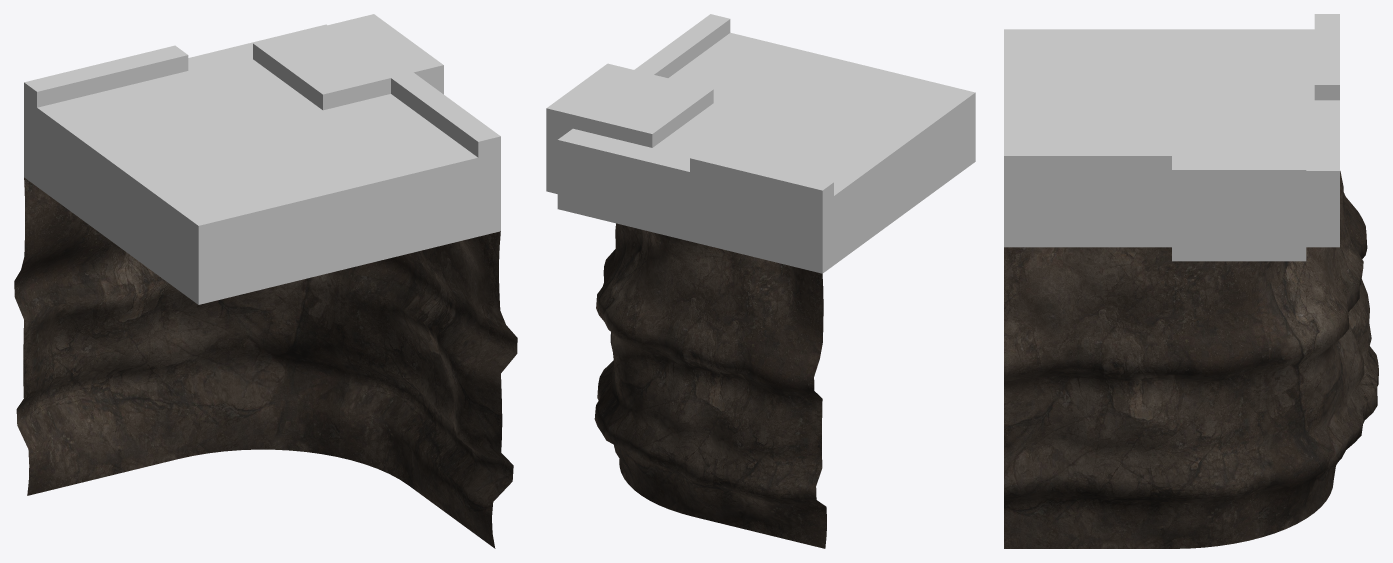
Rendered from cliff_edge_corner_outer.glb.
The picture shows the model from 3 angles, left to right: view 1: azimuth 30°, elevation 25°; view 2: azimuth 150°, elevation 25°; view 3: azimuth 270°, elevation 25°; orthographic projection. The views are drawn at different scales.
Parts seen in each view (by area): view 1: cliff_edge_corner_outer, col_walk_cliff_edge_corner_outer, col_block_rim_cliff_edge_corner_outer_1, col_block_rim_cliff_edge_corner_outer_0, col_block_rim_cliff_edge_corner_outer_2; view 2: cliff_edge_corner_outer, col_walk_cliff_edge_corner_outer, col_block_rim_cliff_edge_corner_outer_0, col_block_rim_cliff_edge_corner_outer_1, col_block_rim_cliff_edge_corner_outer_2; view 3: cliff_edge_corner_outer, col_walk_cliff_edge_corner_outer, col_block_rim_cliff_edge_corner_outer_1, col_block_rim_cliff_edge_corner_outer_2, col_block_rim_cliff_edge_corner_outer_0.
Boxes of the visible parts, left/top/right/bottom form: cliff_edge_corner_outer: left=14, top=177, right=517, bottom=548; col_walk_cliff_edge_corner_outer: left=24, top=24, right=500, bottom=304; col_block_rim_cliff_edge_corner_outer_1: left=253, top=14, right=443, bottom=110; col_block_rim_cliff_edge_corner_outer_0: left=24, top=45, right=188, bottom=186; col_block_rim_cliff_edge_corner_outer_2: left=391, top=72, right=500, bottom=236; cliff_edge_corner_outer: left=594, top=223, right=826, bottom=548; col_walk_cliff_edge_corner_outer: left=557, top=32, right=975, bottom=273; col_block_rim_cliff_edge_corner_outer_0: left=690, top=150, right=833, bottom=273; col_block_rim_cliff_edge_corner_outer_1: left=546, top=63, right=713, bottom=193; col_block_rim_cliff_edge_corner_outer_2: left=634, top=14, right=730, bottom=77; cliff_edge_corner_outer: left=1004, top=171, right=1378, bottom=548; col_walk_cliff_edge_corner_outer: left=1004, top=29, right=1339, bottom=247; col_block_rim_cliff_edge_corner_outer_1: left=1172, top=113, right=1306, bottom=261; col_block_rim_cliff_edge_corner_outer_2: left=1004, top=145, right=1171, bottom=247; col_block_rim_cliff_edge_corner_outer_0: left=1314, top=14, right=1339, bottom=100.
Size of the model in its own units: 4.4 by 5.2 by 4.47.
Materials: 2 (2 with a texture image).
